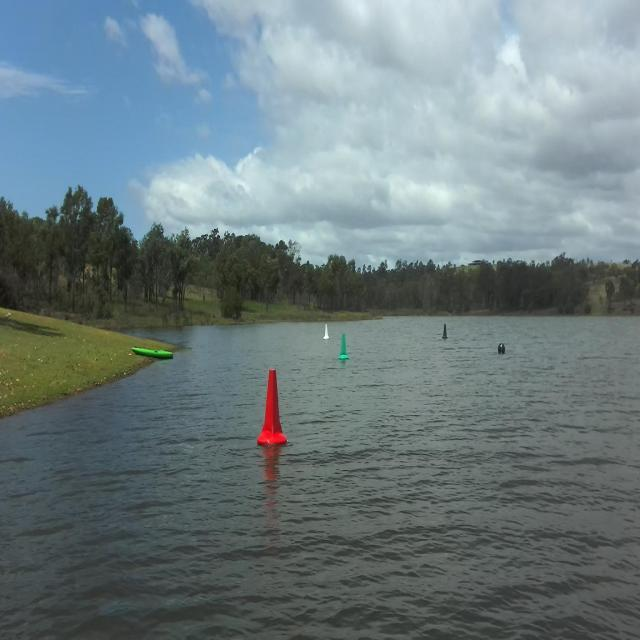Black_Buoy: (437, 319, 459, 345), (494, 340, 510, 358)
Green_Buoy: (336, 332, 352, 365)
Red_Buoy: (250, 362, 300, 454)
White_Buoy: (317, 319, 331, 342)
